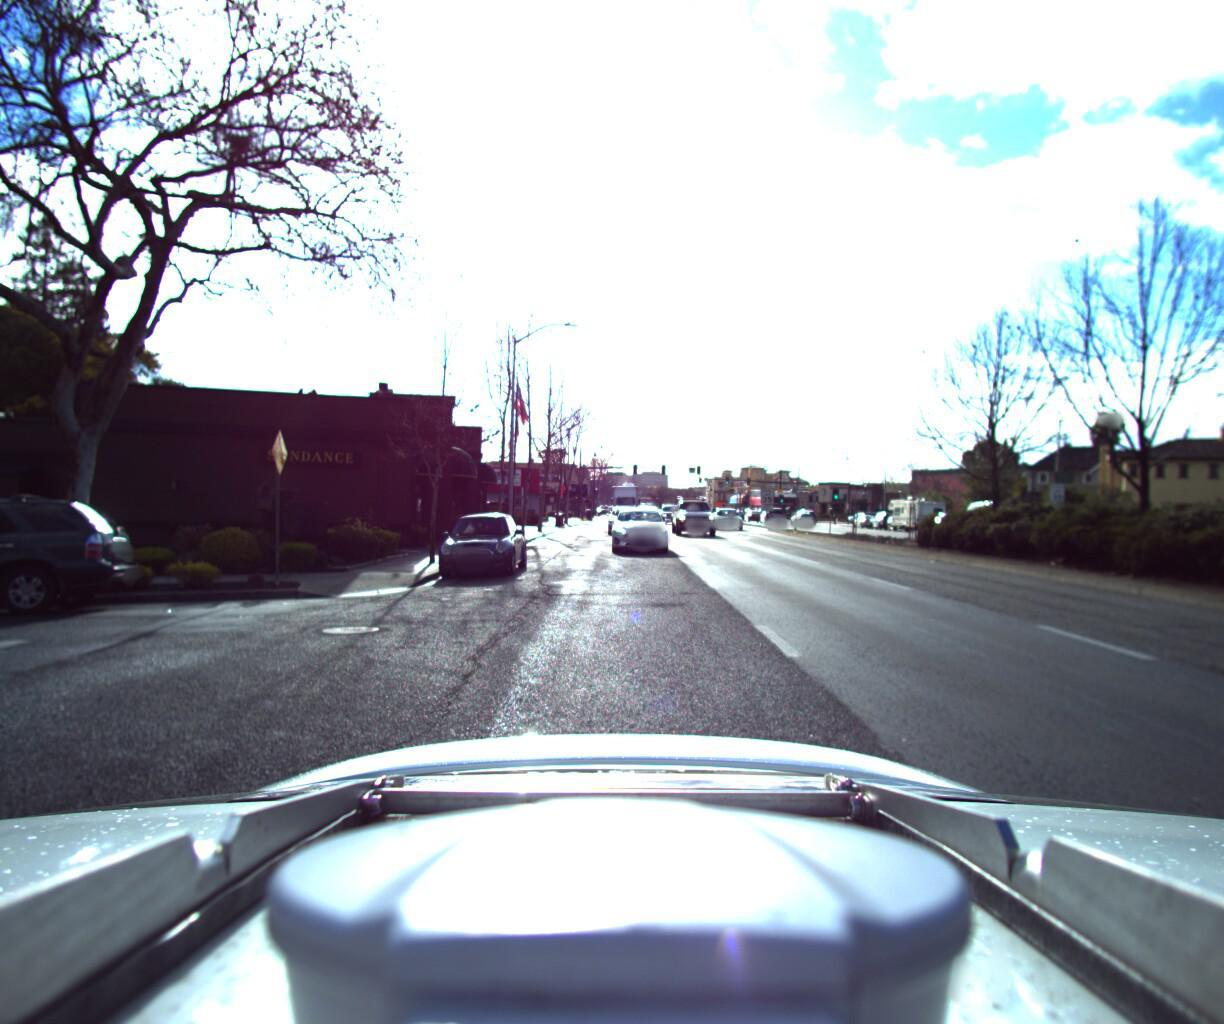car: (0, 487, 148, 631), (432, 504, 531, 581), (605, 499, 673, 551), (952, 493, 1020, 533), (668, 490, 718, 537), (709, 496, 752, 526), (599, 500, 637, 532), (656, 497, 683, 517), (757, 500, 785, 519), (788, 505, 814, 519)
other_vehicle: (882, 488, 948, 526)
truck: (606, 480, 638, 518)
